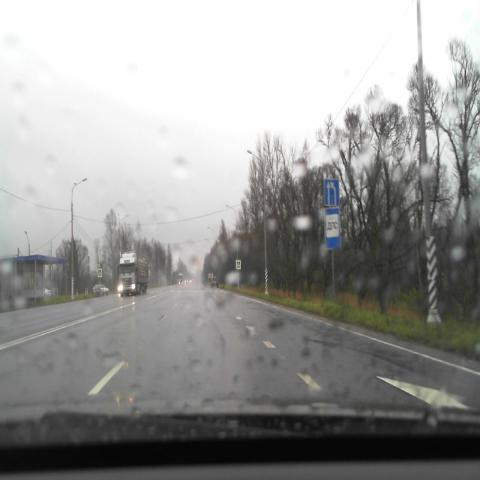7_12: (324, 207, 341, 250)
